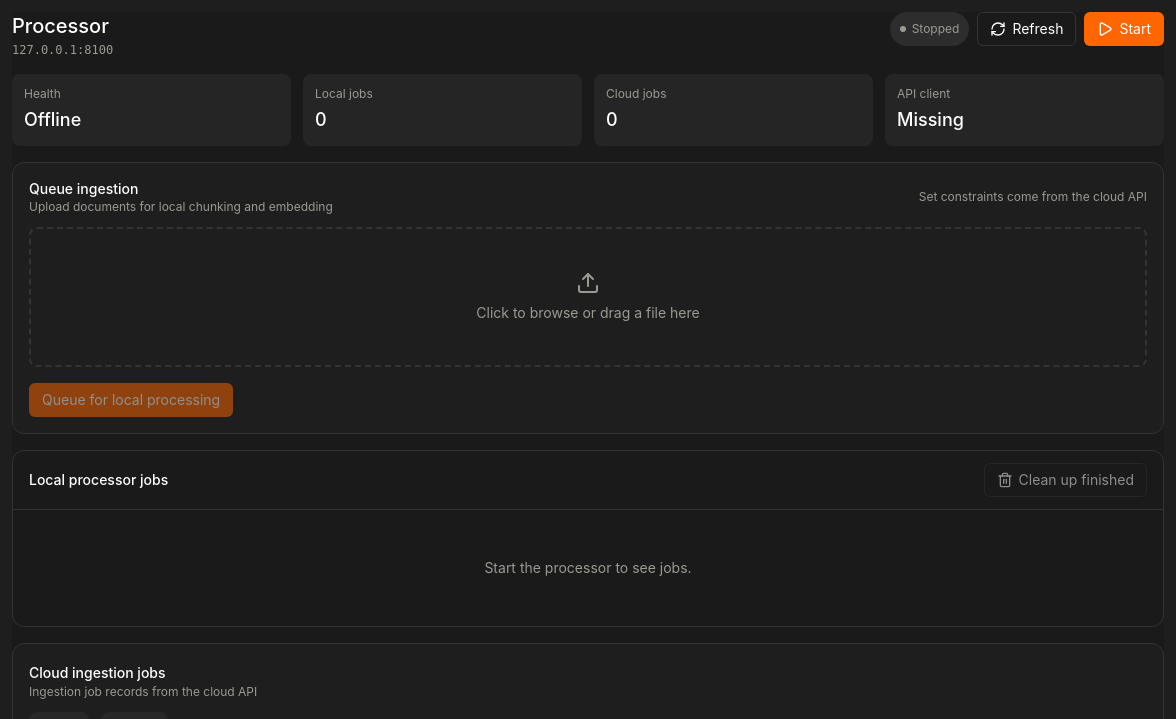
Test case: ProcessorScreen — cloud job source file name subtitle › shows and dismisses processor start errors
Expected: the text "Stopped" is shown, [890, 12, 970, 46]
Step 1. Click the button "Start" → (1124, 29), box [1084, 12, 1164, 46]
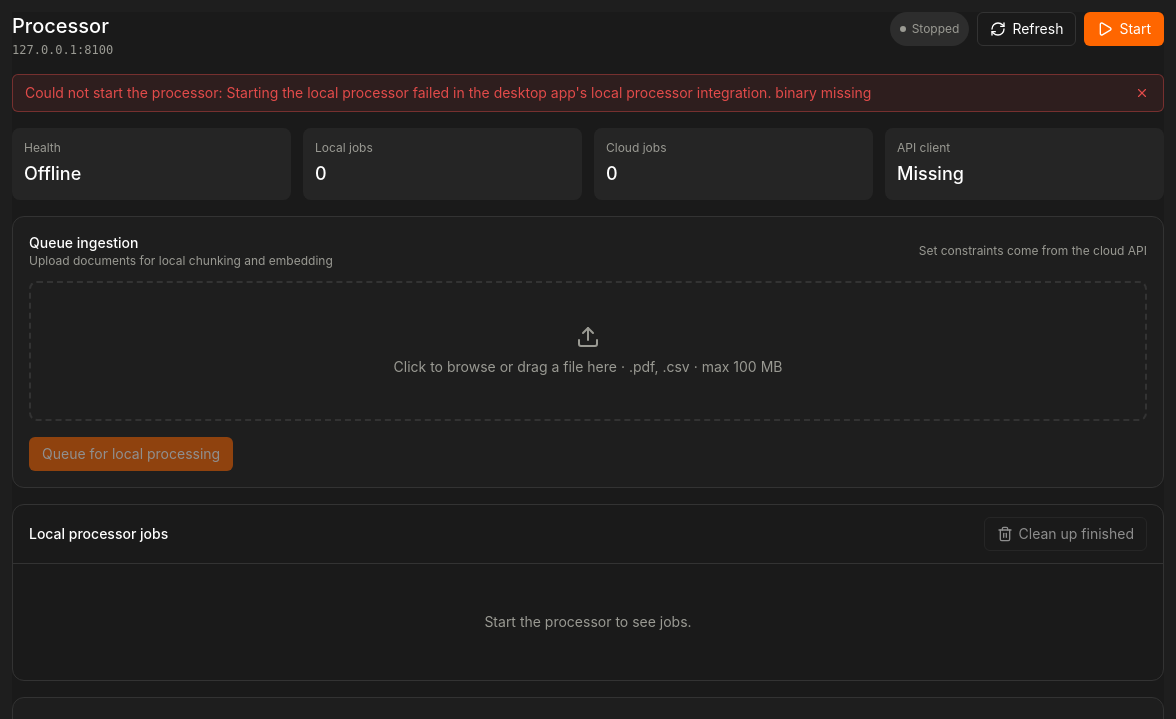
Result: the text "Could not start the processor:" is shown at [25, 84, 226, 101]
Step 2. Click the 3rd button → (1142, 93), box [1133, 84, 1151, 102]
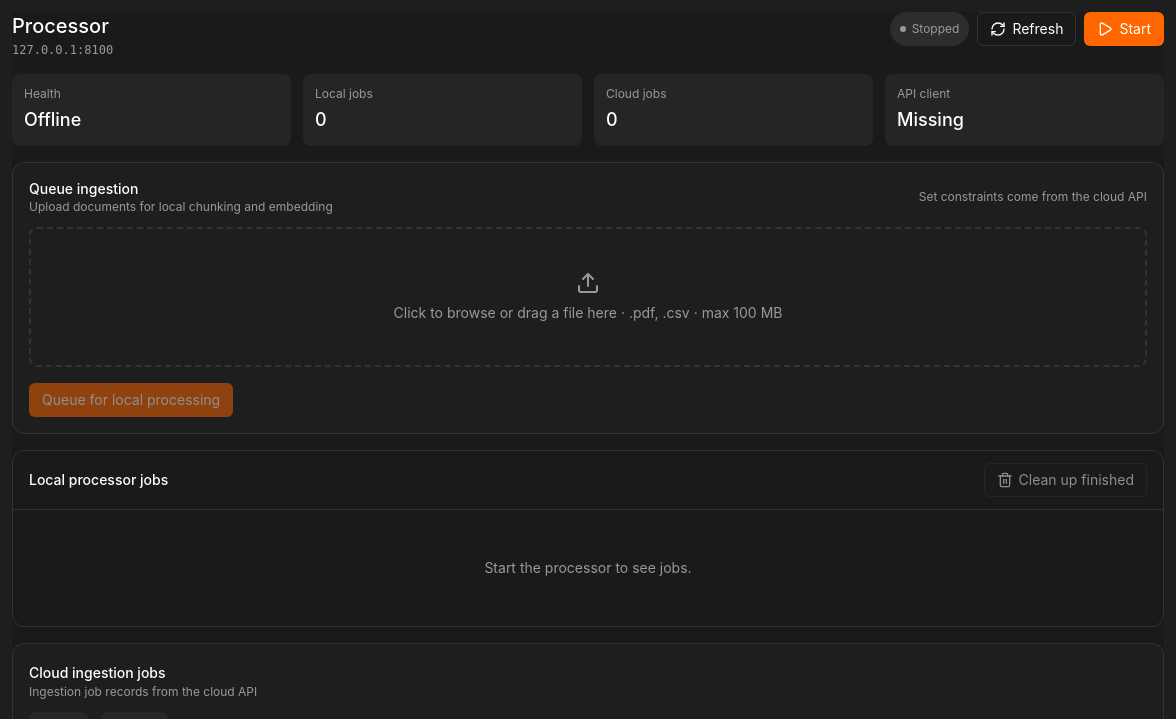
Result: the text "Could not start the processor:" is gone
